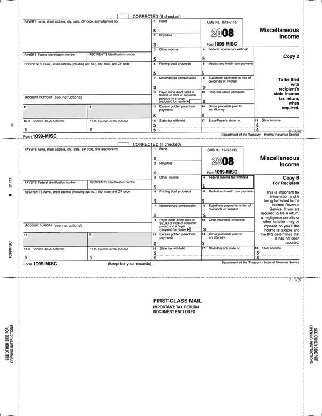checkbox: (187, 97, 202, 105), (188, 225, 203, 233), (115, 11, 129, 19), (115, 140, 130, 147)
textbox: (17, 17, 153, 53), (17, 145, 153, 181), (16, 189, 153, 224), (16, 60, 152, 95), (14, 221, 154, 234), (16, 93, 154, 105), (14, 101, 89, 120), (15, 229, 90, 248), (85, 229, 153, 248), (86, 101, 153, 120), (17, 245, 88, 262), (86, 116, 153, 134), (86, 244, 153, 262), (17, 116, 88, 132), (199, 87, 256, 105), (200, 229, 256, 247), (199, 73, 256, 90), (198, 101, 255, 118), (199, 116, 256, 133), (200, 244, 256, 261), (200, 216, 256, 233), (200, 201, 256, 218), (200, 187, 256, 204), (200, 172, 256, 189), (251, 244, 307, 261), (150, 30, 202, 48), (150, 44, 202, 62), (151, 58, 203, 76), (151, 73, 203, 91), (16, 50, 87, 63), (17, 178, 88, 191), (149, 101, 203, 118), (149, 159, 203, 176), (149, 230, 203, 247), (150, 173, 203, 190), (150, 202, 203, 219), (150, 244, 203, 261), (85, 49, 153, 62), (150, 17, 202, 34), (200, 60, 255, 76), (253, 116, 304, 133), (149, 117, 203, 133), (150, 145, 203, 161), (150, 188, 203, 204), (85, 178, 154, 190), (200, 46, 255, 61)
